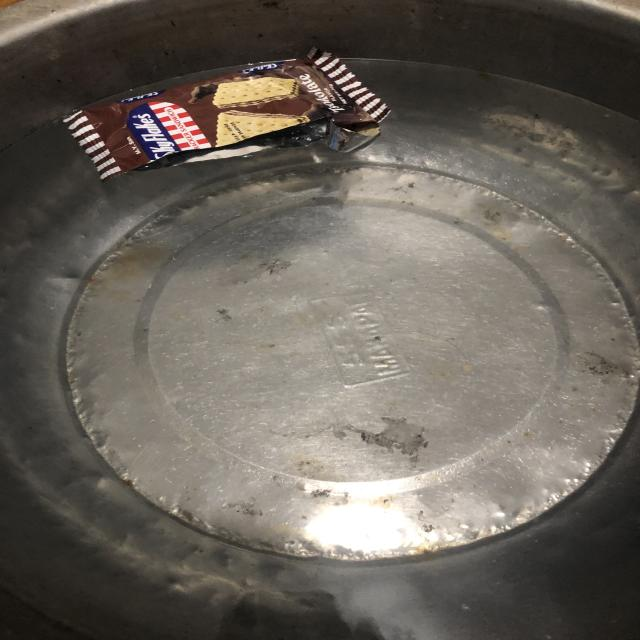Plastic Wrapper: (51, 29, 406, 195)
